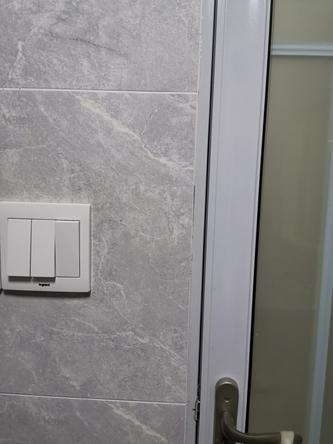switch: (31, 219, 55, 277), (56, 219, 79, 274), (8, 217, 26, 275)
